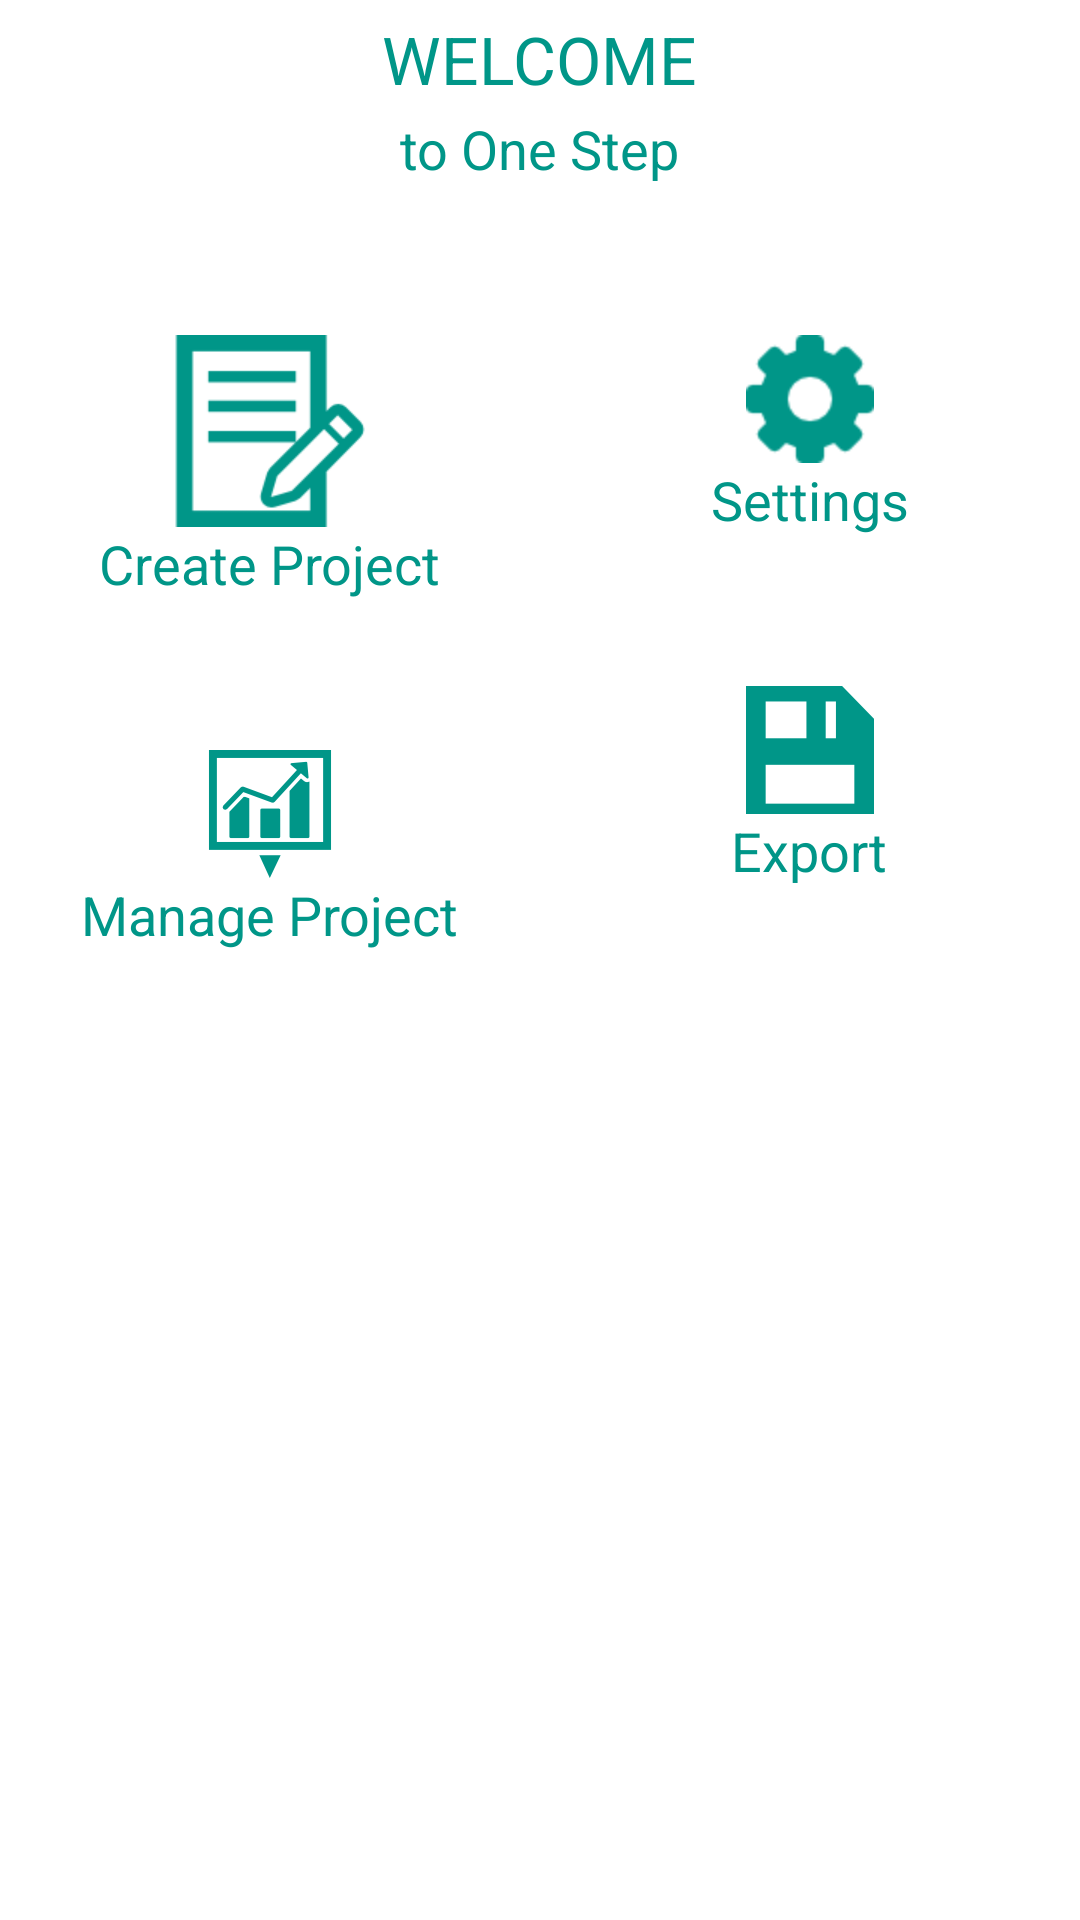

Icons on this 1080px×1920px Android screen, each with its box as bbox(x1, y1, x2, y2):
notes: bbox(175, 335, 365, 527)
savedisk: bbox(746, 686, 874, 814)
stocks: bbox(209, 750, 331, 878)
